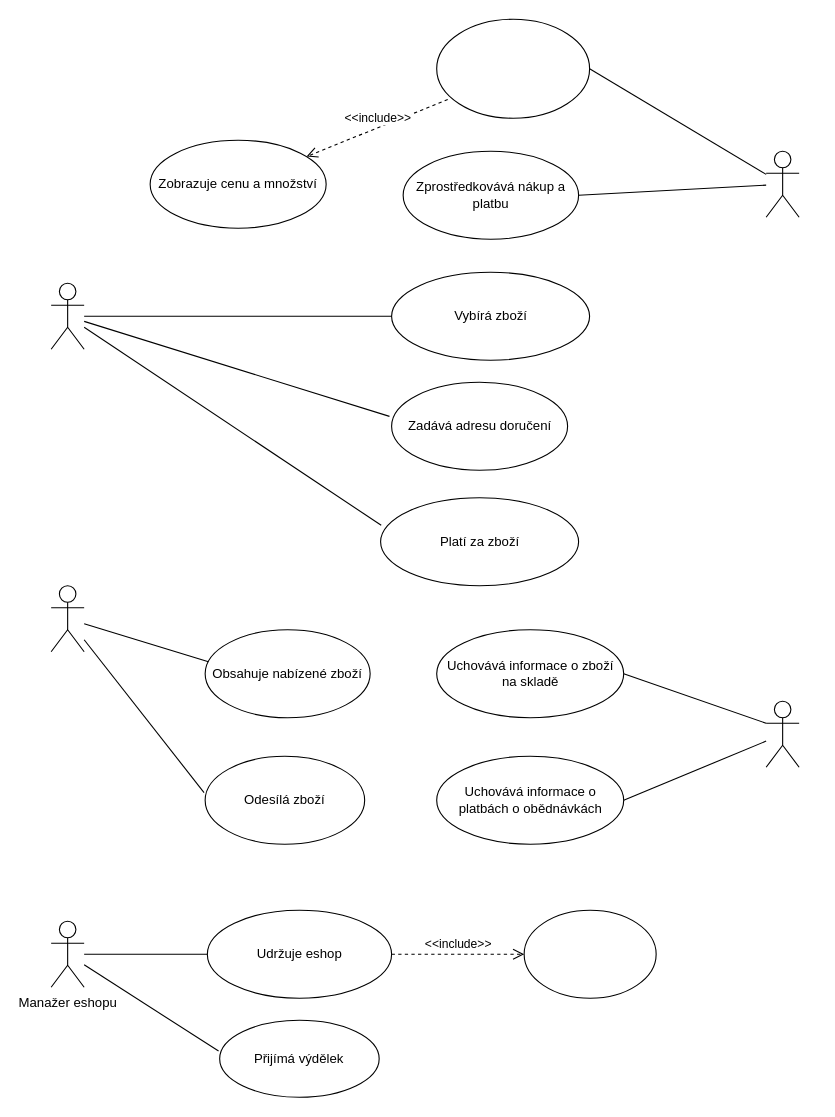
Image size: 835x1117. Some labels were removed from this diagram. The shapes that lost their labels are listed below. From the top down, each one's centre as x and y in pixels, then its label:
At [513,68]: "Zobrazuje dostupné zboží".
At [782,183]: "Uživatelské rozhraní".
At [67,315]: "Uživatel".
At [67,618]: "Sklad".
At [782,733]: "Databáze".
At [589,953]: "Platí web hosting".
